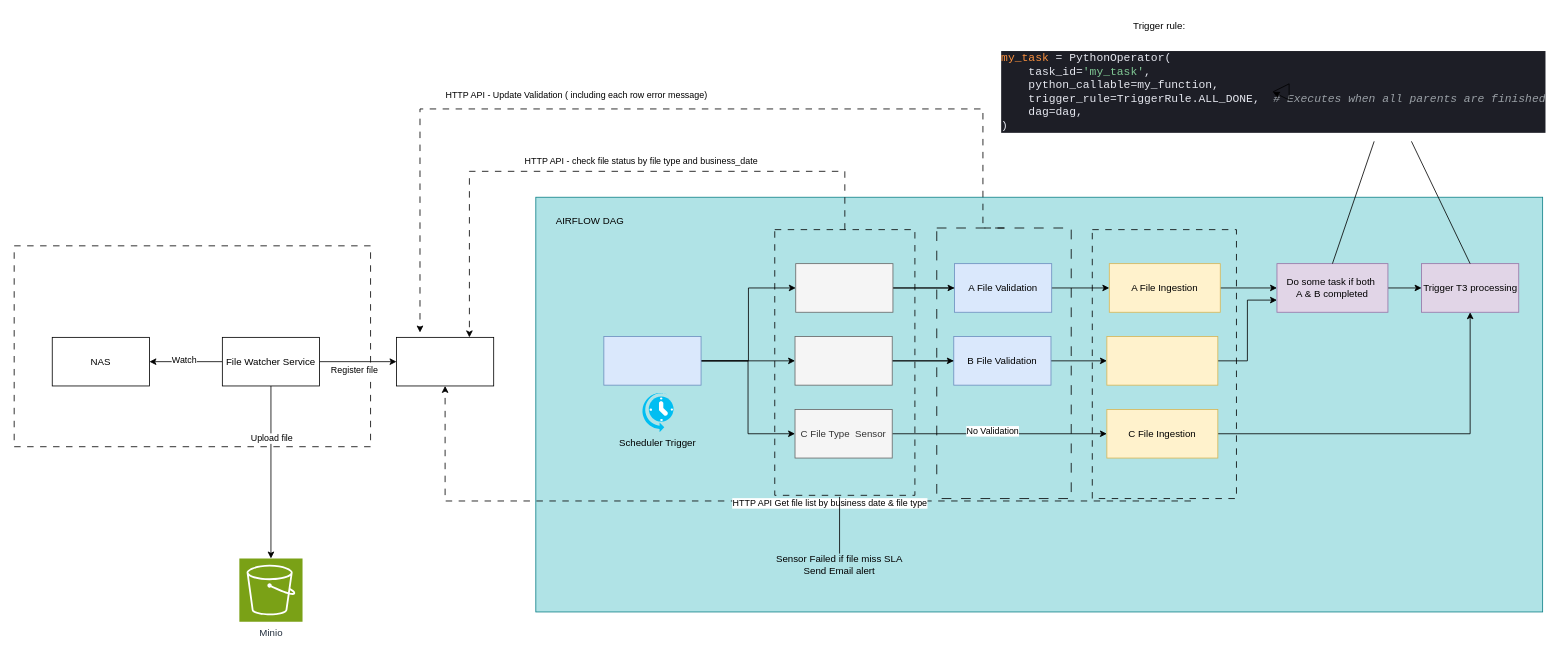
Some shapes in this 1559 by 652 pixel diagram are drawn without their labels. Here are the shapes that lost their labels. From the top down, the box of each, then its label:
(795, 263, 893, 312): A File Type Sensor (Check file SLA) (Check file ready )
(396, 337, 494, 386): File Manager Service
(603, 336, 701, 385): Roll Date
(794, 336, 892, 385): B File Type Sensor
(1106, 336, 1218, 385): B File Ingestion
